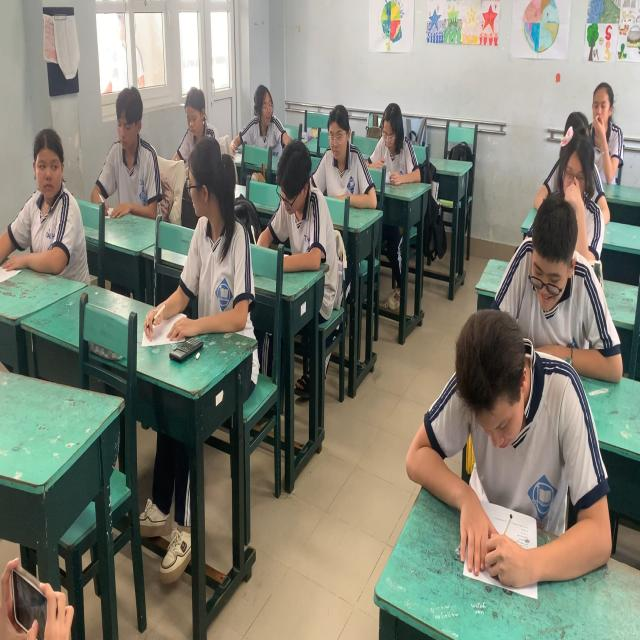cheating: (171, 135, 257, 333), (22, 113, 82, 284), (241, 77, 286, 142)
not_cheating: (404, 305, 595, 554), (500, 184, 579, 353), (268, 128, 339, 250), (91, 81, 156, 211), (362, 84, 426, 201), (319, 88, 375, 201), (562, 118, 590, 202), (175, 84, 216, 139), (584, 74, 613, 128)
